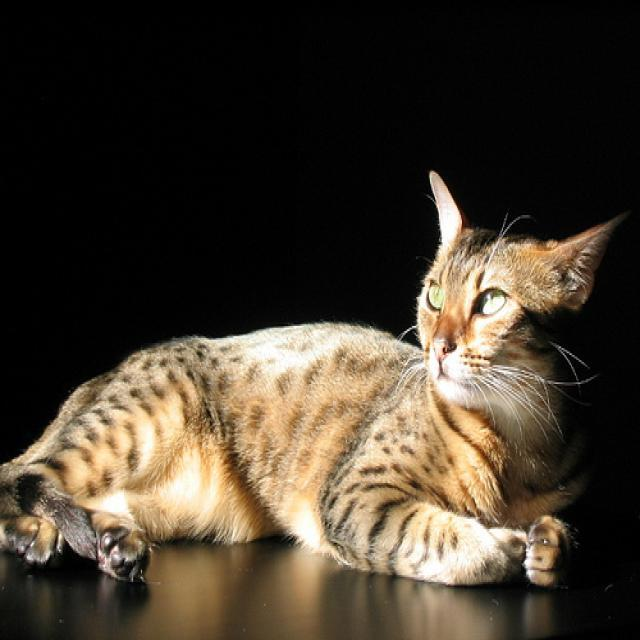Egyptian_Mau: (405, 166, 640, 425)
